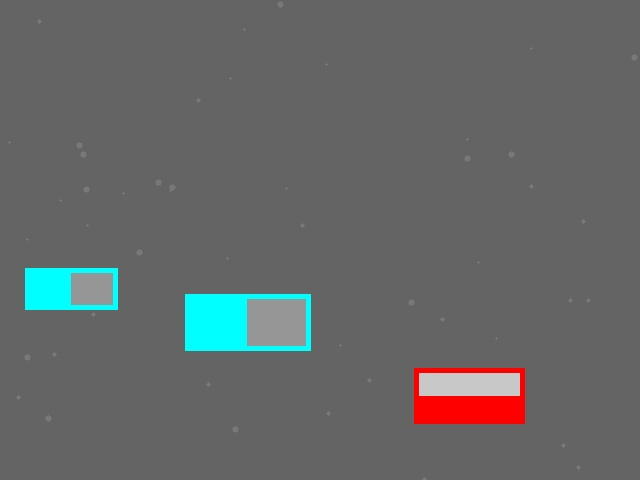car: (414, 368, 524, 423)
truck: (185, 294, 310, 350), (25, 268, 117, 309)
